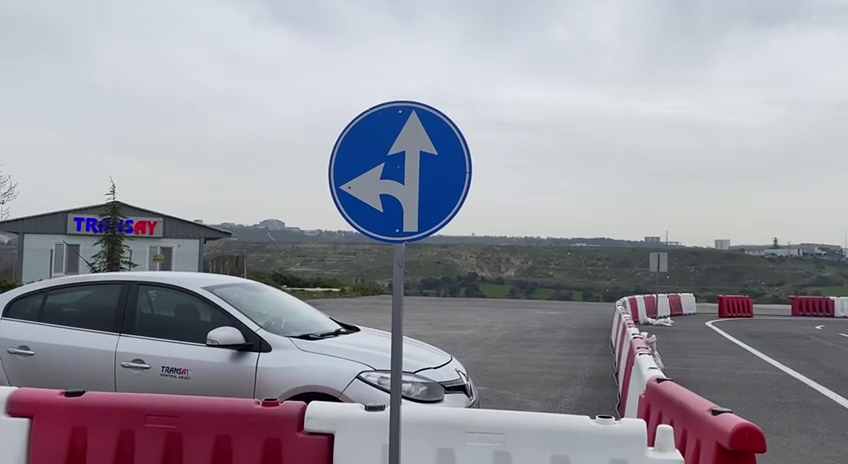forwardAndLeft: (325, 99, 476, 245)
